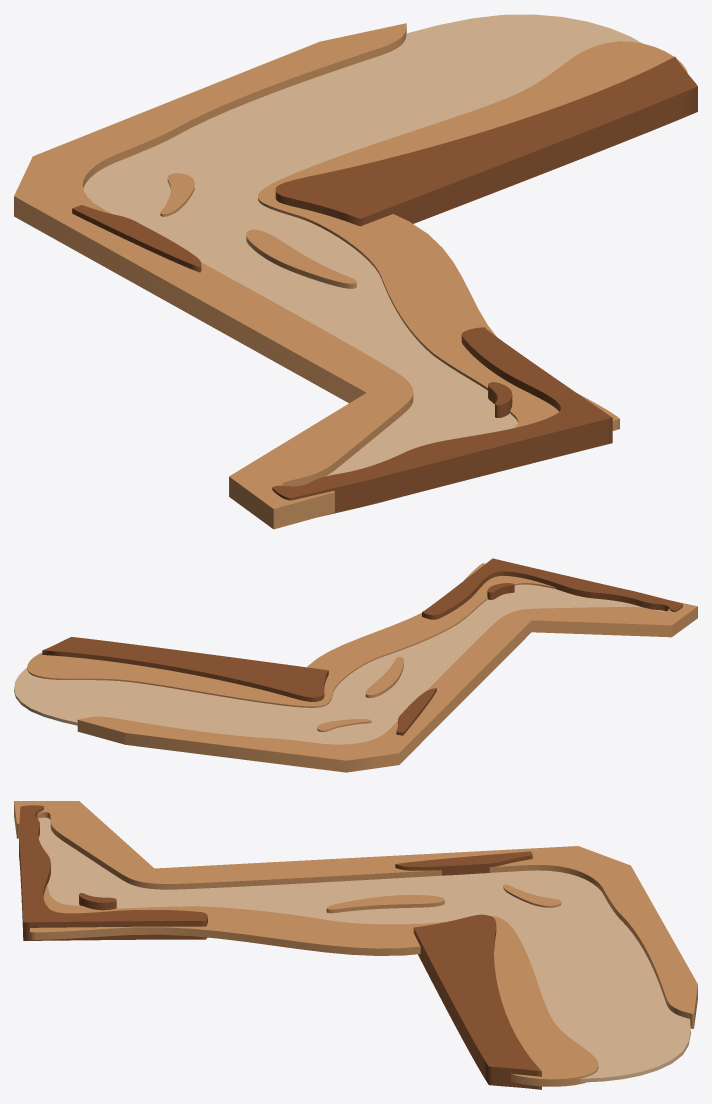
File: emoji_u1f9b5_1f3fc.glb
3 views of the same model, one above another, from view 1: azimuth 30°, elevation 25°; view 2: azimuth 150°, elevation 25°; view 3: azimuth 270°, elevation 25° (orthographic). The views are drawn at different scales.
Parts seen in each view (by area): view 1: emoji_u1f9b5_1f3fc; view 2: emoji_u1f9b5_1f3fc; view 3: emoji_u1f9b5_1f3fc.
Boxes of the visible parts, x1,y1,x2,y2 form: emoji_u1f9b5_1f3fc: (14,14,697,529); emoji_u1f9b5_1f3fc: (14,558,697,772); emoji_u1f9b5_1f3fc: (14,801,697,1089).
Bounding box in the file's own units: 0.0316 × 0.0012 × 0.0333.
